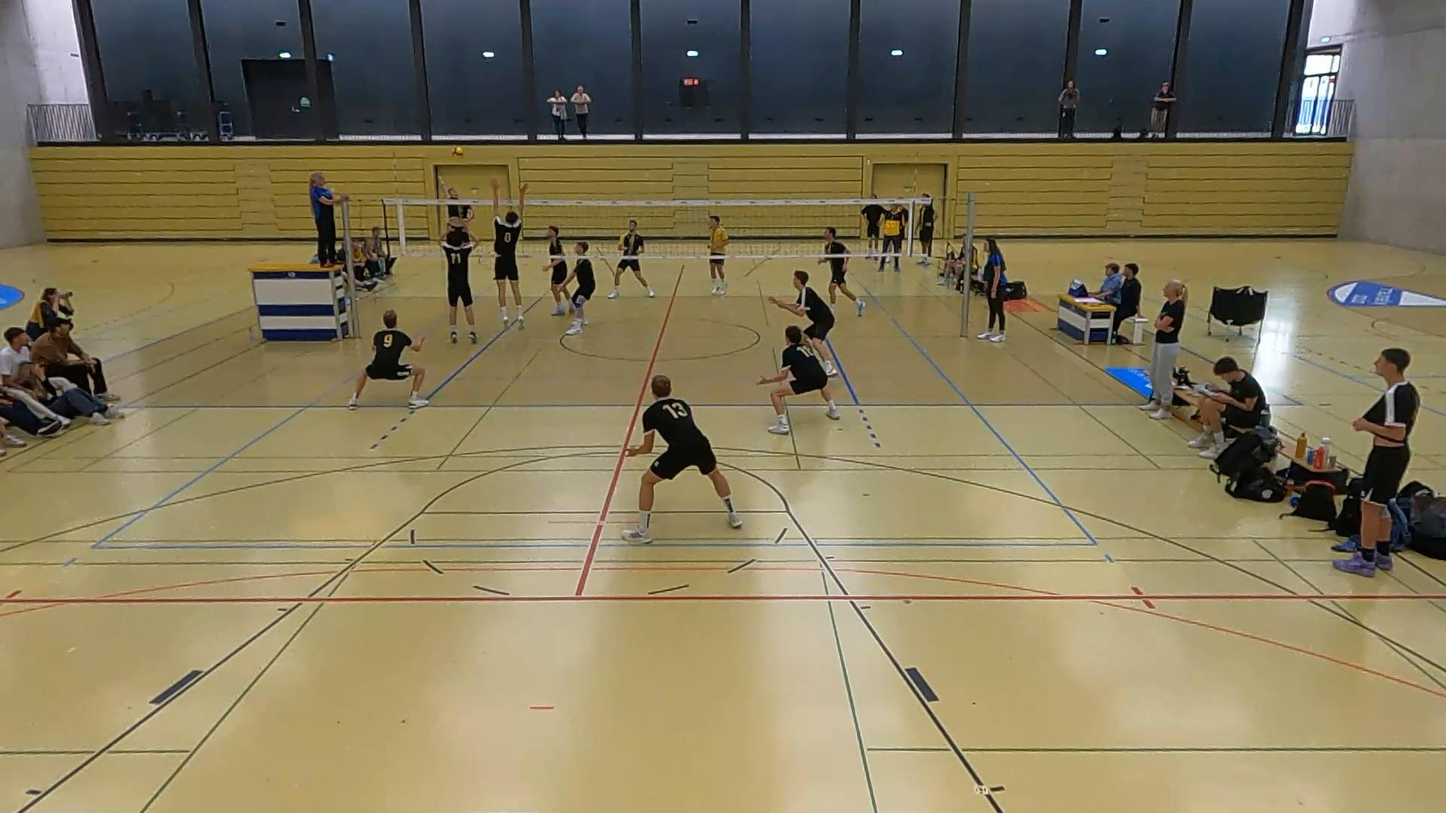Attack: (437, 177, 474, 227)
Block: (484, 182, 533, 330), (429, 216, 479, 349)
Player: (622, 375, 742, 543), (758, 325, 840, 434), (348, 310, 427, 409), (770, 270, 837, 376), (819, 227, 865, 315), (608, 220, 654, 298), (564, 241, 595, 334), (545, 226, 571, 315), (709, 215, 728, 294)
ball: (448, 143, 466, 162)
